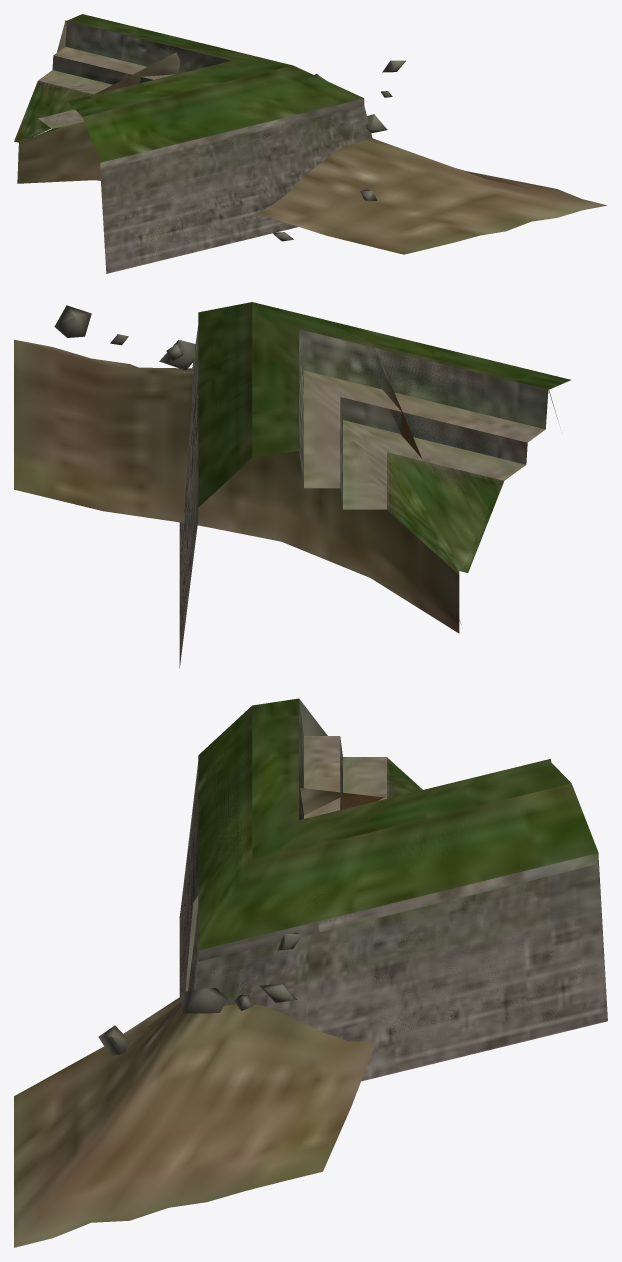
Rendered from starfort_ravelin_salient_far.glb.
3 renders of one model, top to bottom at view 1: azimuth 30°, elevation 25°; view 2: azimuth 150°, elevation 25°; view 3: azimuth 270°, elevation 25°, orthographic. The views are drawn at different scales.
Parts seen in each view (by area): view 1: intact, breached, cracked; view 2: breached, intact, cracked; view 3: breached, intact, cracked.
Boxes of the visible parts, <box> form: intact: <box>14,14,372,273</box>; breached: <box>15,15,607,272</box>; cracked: <box>16,15,370,272</box>; breached: <box>14,305,567,667</box>; intact: <box>179,302,570,668</box>; cracked: <box>179,302,568,665</box>; breached: <box>14,699,607,1247</box>; intact: <box>179,698,607,1071</box>; cracked: <box>179,699,607,1076</box>.
Size of what is drawn, in the model's own units: 15.11 by 4.71 by 11.47.
1 material, 1 textured.
